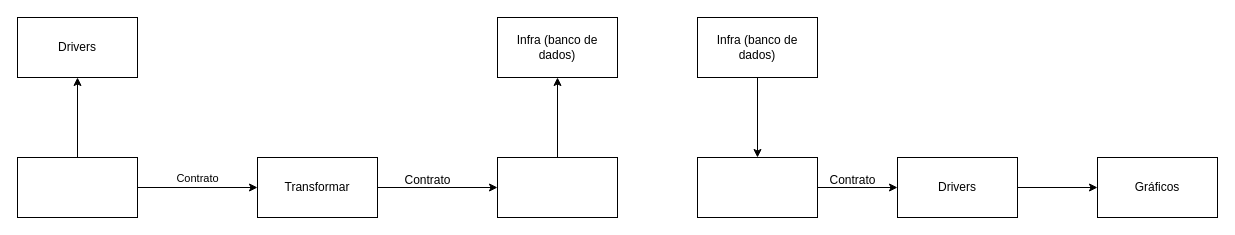
Some shapes in this 1235 by 235 pixel diagram are drawn without their labels. Each missing label, with the centre of its shape:
"Analises" goes at [757,187].
"Carregar" goes at [557,187].
"Extrair" goes at [77,187].
